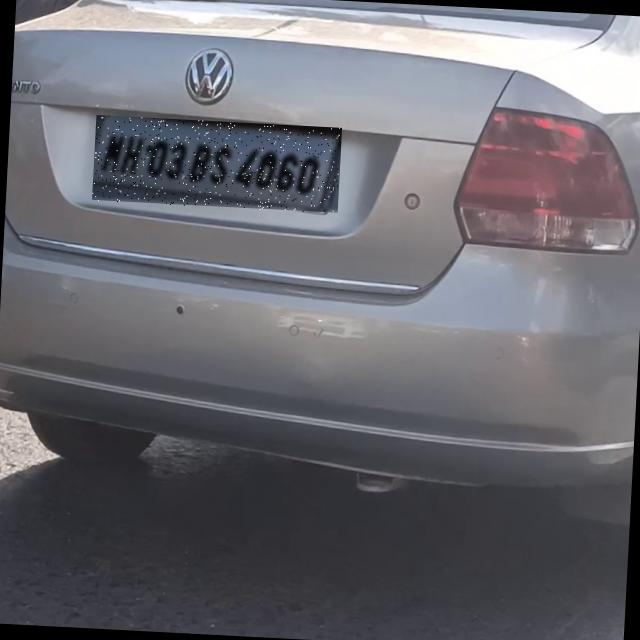Plate: (93, 117, 343, 216)
